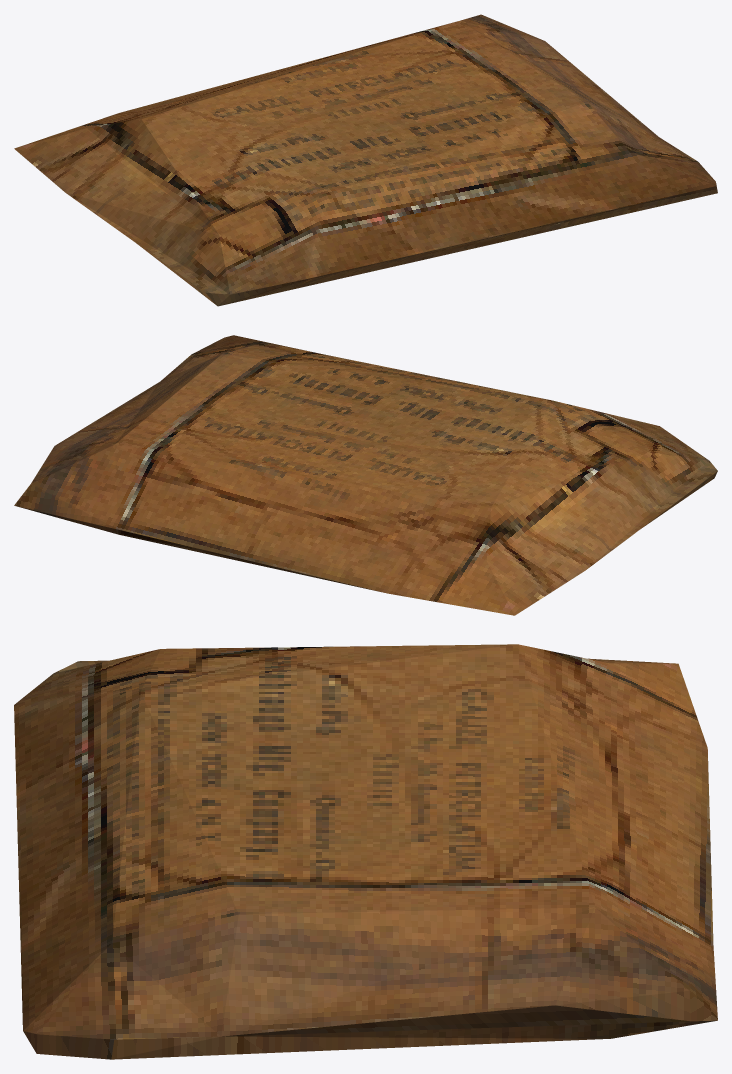
Rendered from package_hr_1.glb.
3 views of the same model, one above another, from view 1: azimuth 30°, elevation 25°; view 2: azimuth 150°, elevation 25°; view 3: azimuth 270°, elevation 25° (orthographic). The views are drawn at different scales.
Parts seen in each view (by area): view 1: package_hr_1; view 2: package_hr_1; view 3: package_hr_1.
Boxes of the visible parts, x1,y1,x2,y2 form: package_hr_1: (14, 14, 717, 306); package_hr_1: (14, 335, 717, 615); package_hr_1: (14, 644, 717, 1059).
Bounding box in the file's own units: 0.5627 × 0.0684 × 0.4377.
1 material, 1 textured.
